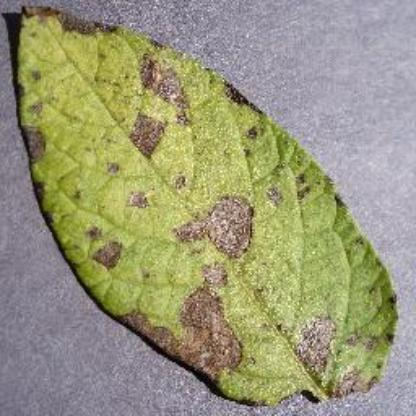Early-Blight: (10, 3, 396, 404)
